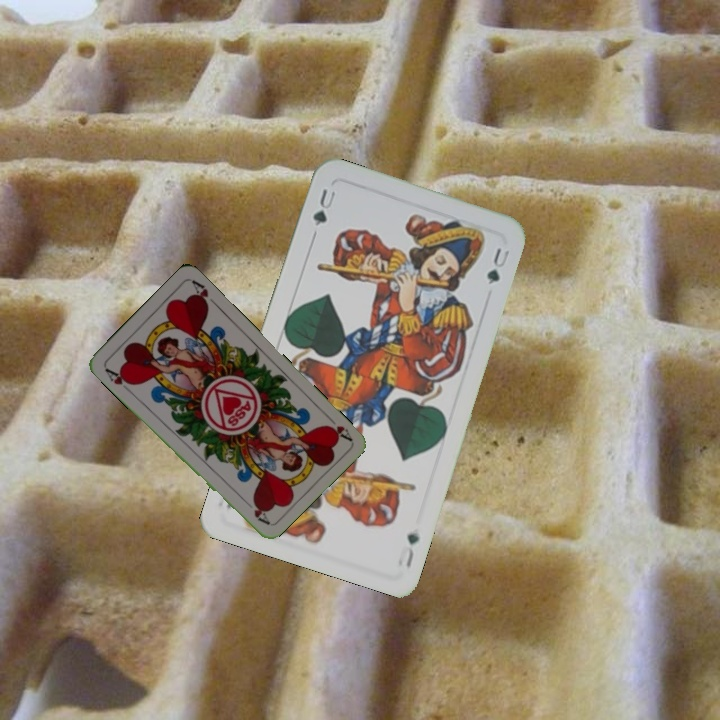GU: (308, 185, 339, 229), (402, 528, 422, 571)
HA: (320, 410, 354, 443), (100, 364, 136, 395)
